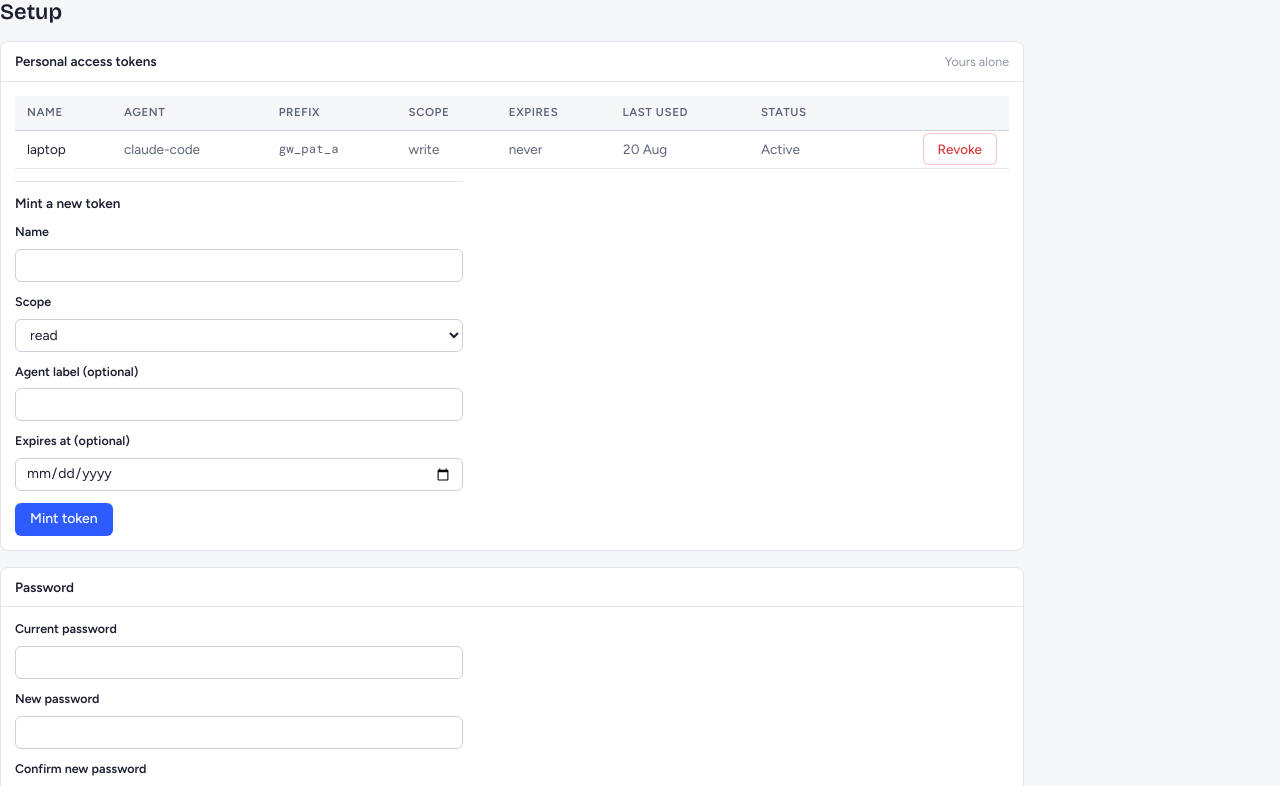
Test: SetupPage › Personal access tokens › sends an expiry as the end of the picked day UTC, with no fractional seconds
Type "expiring token" into the field labelled "Name".
click(239, 265); type("expiring token")  # box [15, 249, 463, 282]
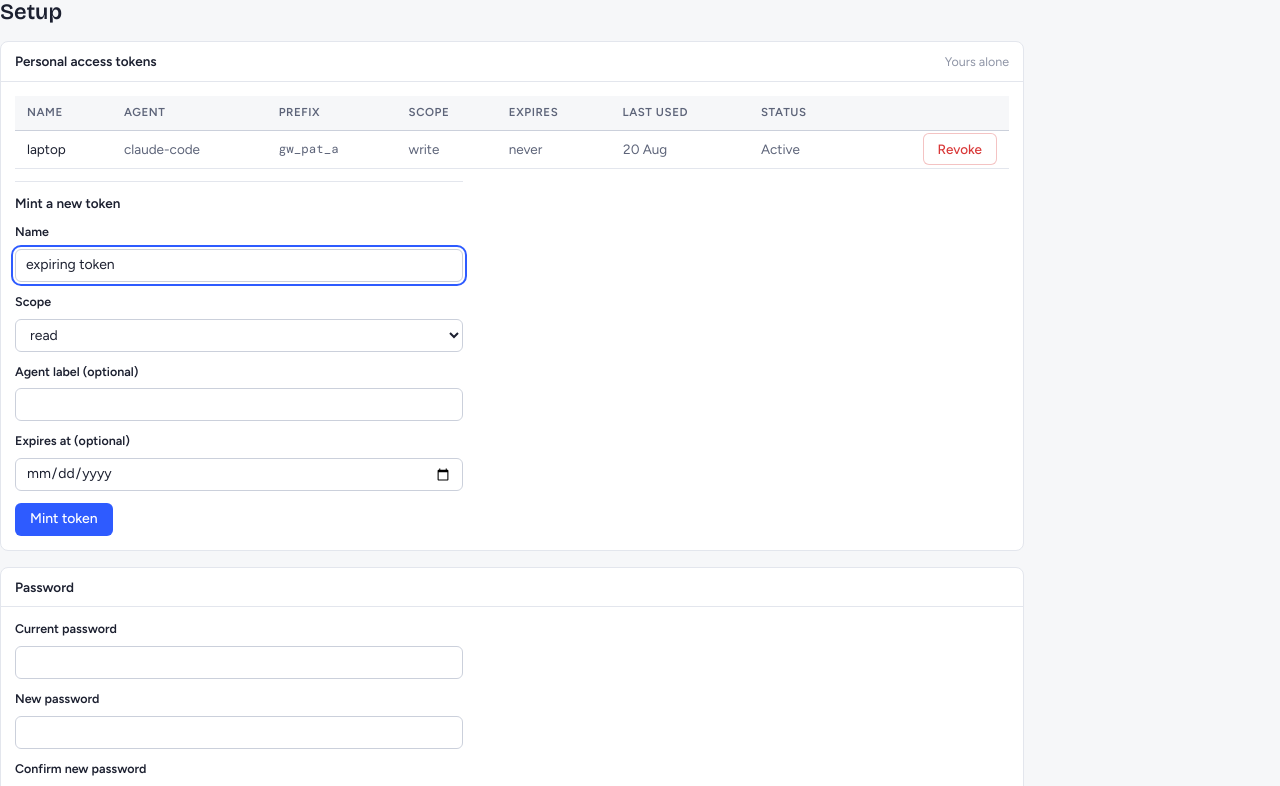
Type "2027-01-31" into the date field labelled "Expires at (optional)".
click(239, 475); type("2027-01-31")  # box [15, 458, 463, 491]
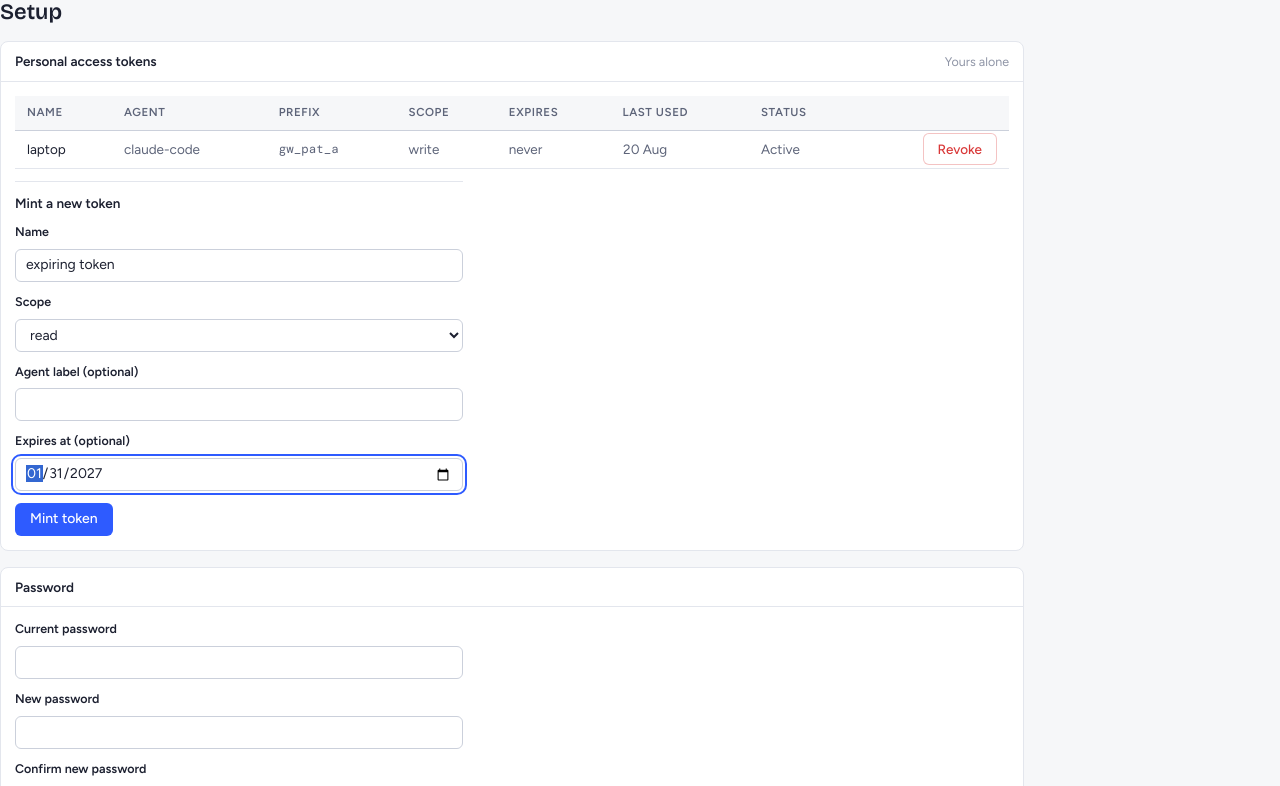
Click the button "Mint token".
click(64, 520)  # box [15, 503, 113, 536]
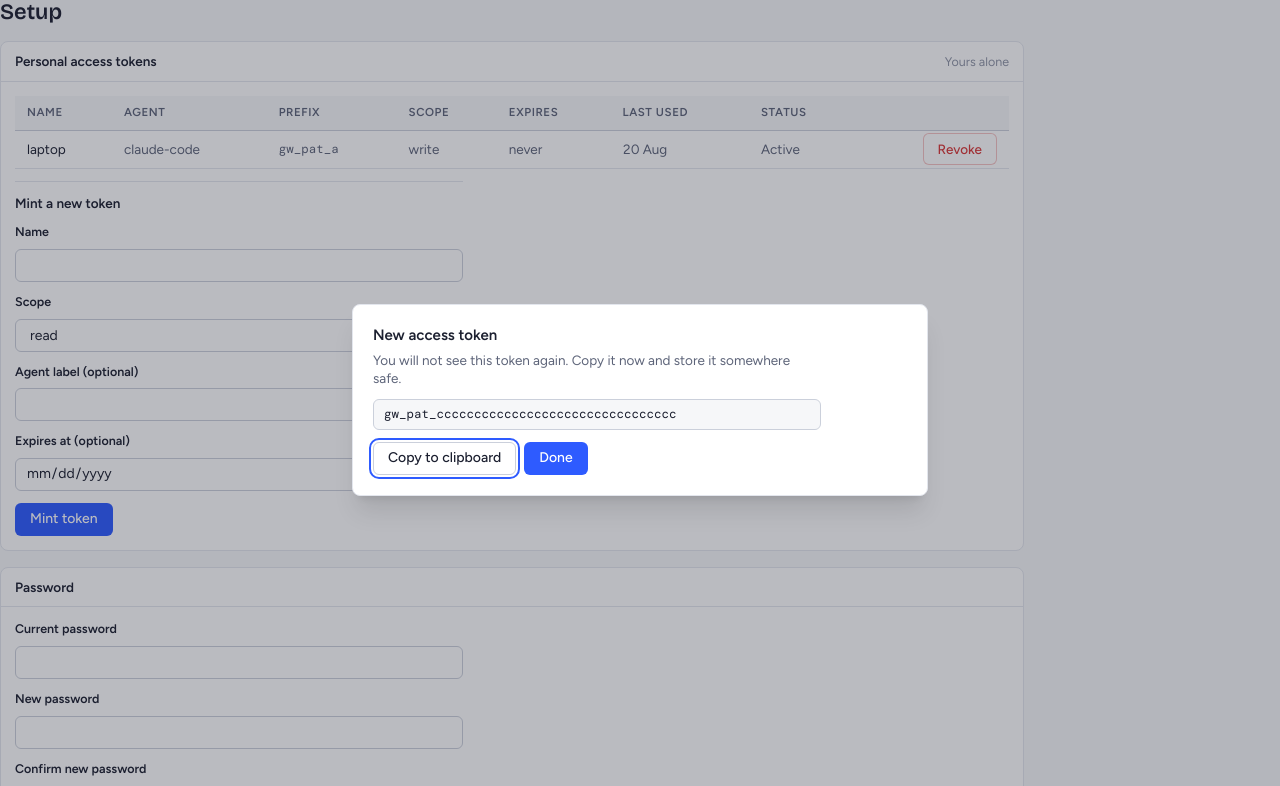
Check: the dialog with test id "minted-token-dialog" is shown, box [352, 304, 928, 496]
